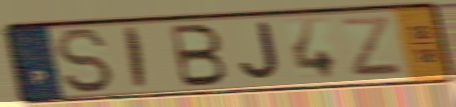4: (293, 16, 342, 82)
B: (168, 23, 230, 89)
I: (124, 25, 149, 92)
J: (236, 20, 283, 83)
S: (52, 26, 117, 95)
Z: (337, 14, 407, 78)
